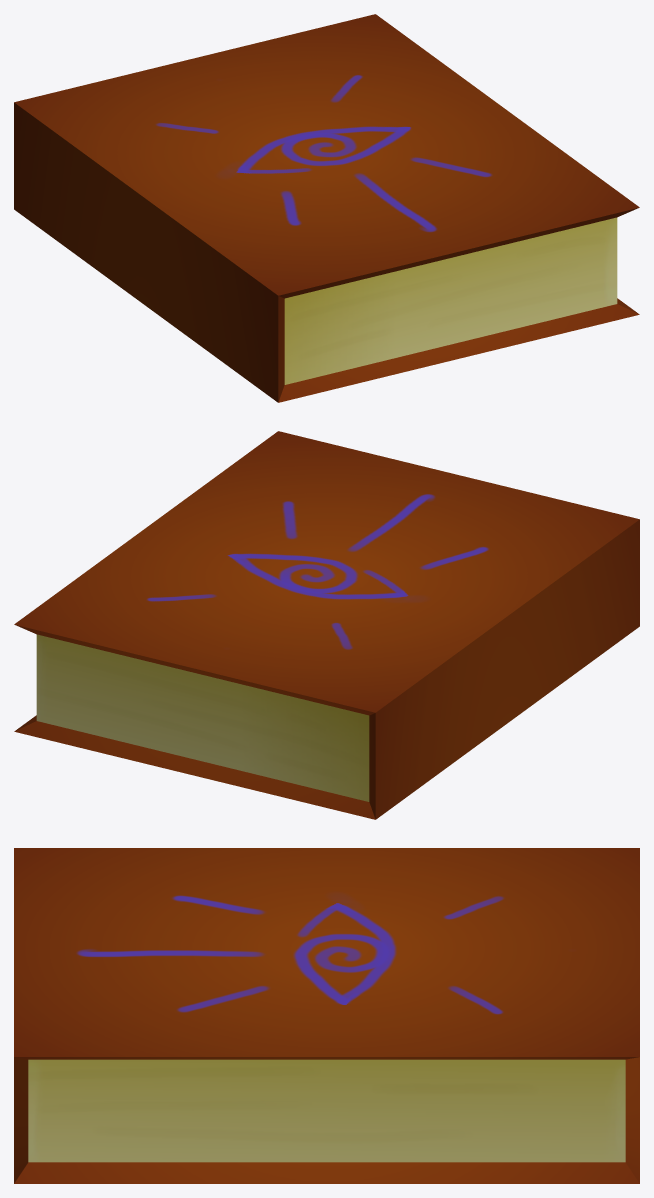
The model's file is Book_A.fbx.
The picture shows the model from 3 angles, top to bottom: view 1: azimuth 30°, elevation 25°; view 2: azimuth 150°, elevation 25°; view 3: azimuth 270°, elevation 25°; orthographic projection. The views are drawn at different scales.
Parts seen in each view (by area): view 1: book; view 2: book; view 3: book.
Boxes of the visible parts, box(x1,y1,x2,y2) form: book: box(14, 14, 639, 402); book: box(14, 431, 639, 819); book: box(14, 848, 639, 1183).
Bounding box in the file's own units: 41.83 × 11.84 × 52.95.
Materials: 1 (1 with a texture image).
